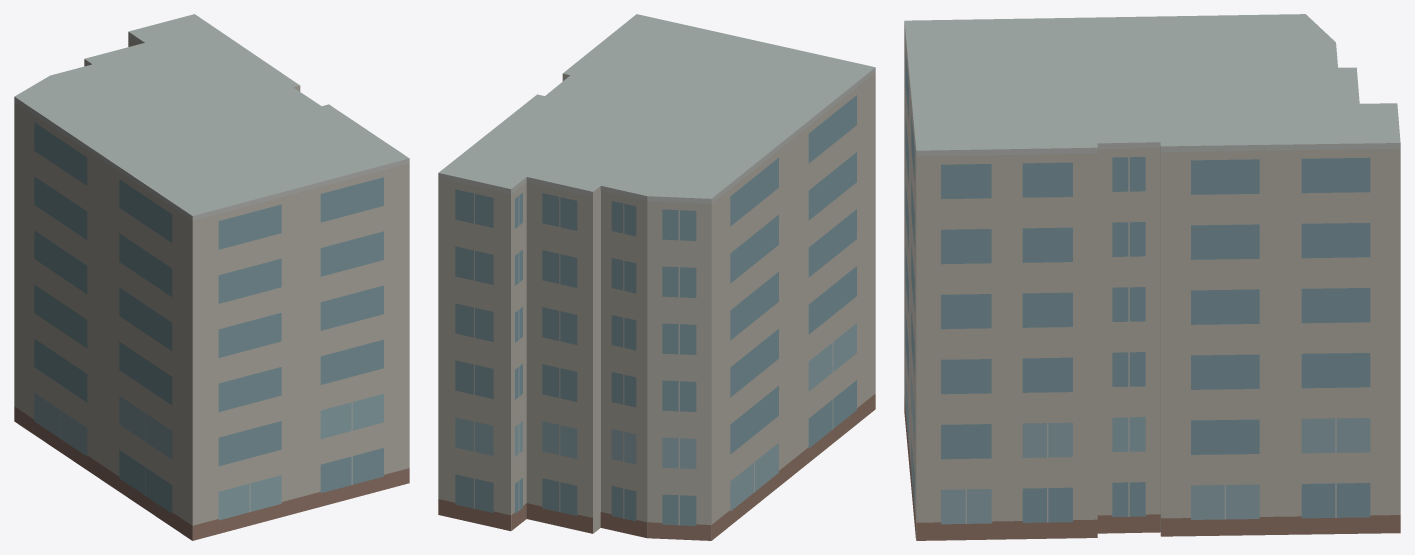
File: survey-upis-32723364.glb
3 renders of one model, left to right at view 1: azimuth 30°, elevation 25°; view 2: azimuth 150°, elevation 25°; view 3: azimuth 270°, elevation 25°, orthographic. The views are drawn at different scales.
Parts seen in each view (by area): view 1: survey-upis-32723364.tmp; view 2: survey-upis-32723364.tmp; view 3: survey-upis-32723364.tmp.
Boxes of the visible parts, x1,y1,x2,y2 form: survey-upis-32723364.tmp: (14, 14, 409, 540); survey-upis-32723364.tmp: (438, 14, 875, 540); survey-upis-32723364.tmp: (904, 14, 1400, 540).
Size of the model in its own units: 12.29 by 16.35 by 18.86.
